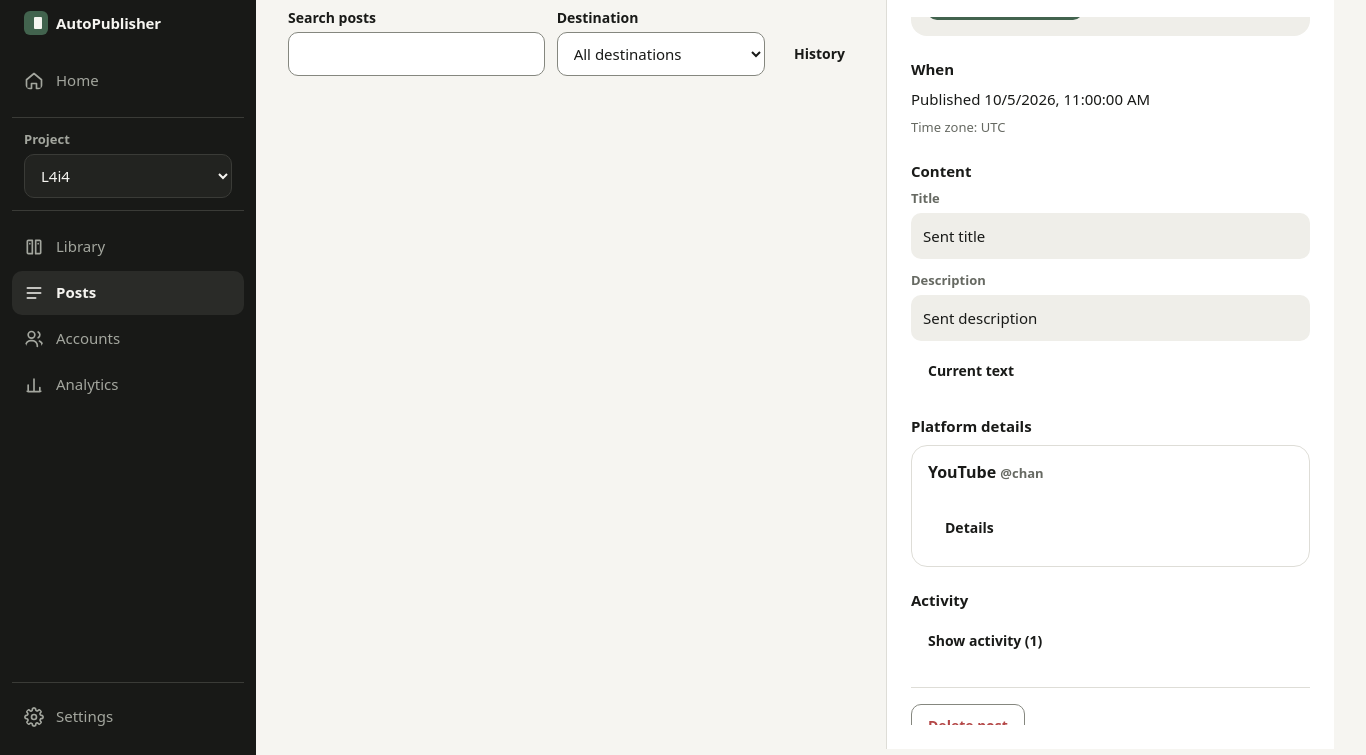
a Published Post shows what was sent, even if the Media changed since
(page scrolled)
Check: the text "Sent title" is shown, box [911,213,1310,259]
Check: the text "Sent description" is shown, box [911,295,1310,341]
Click the button "Current text": (971, 371) [911,349,1031,393]
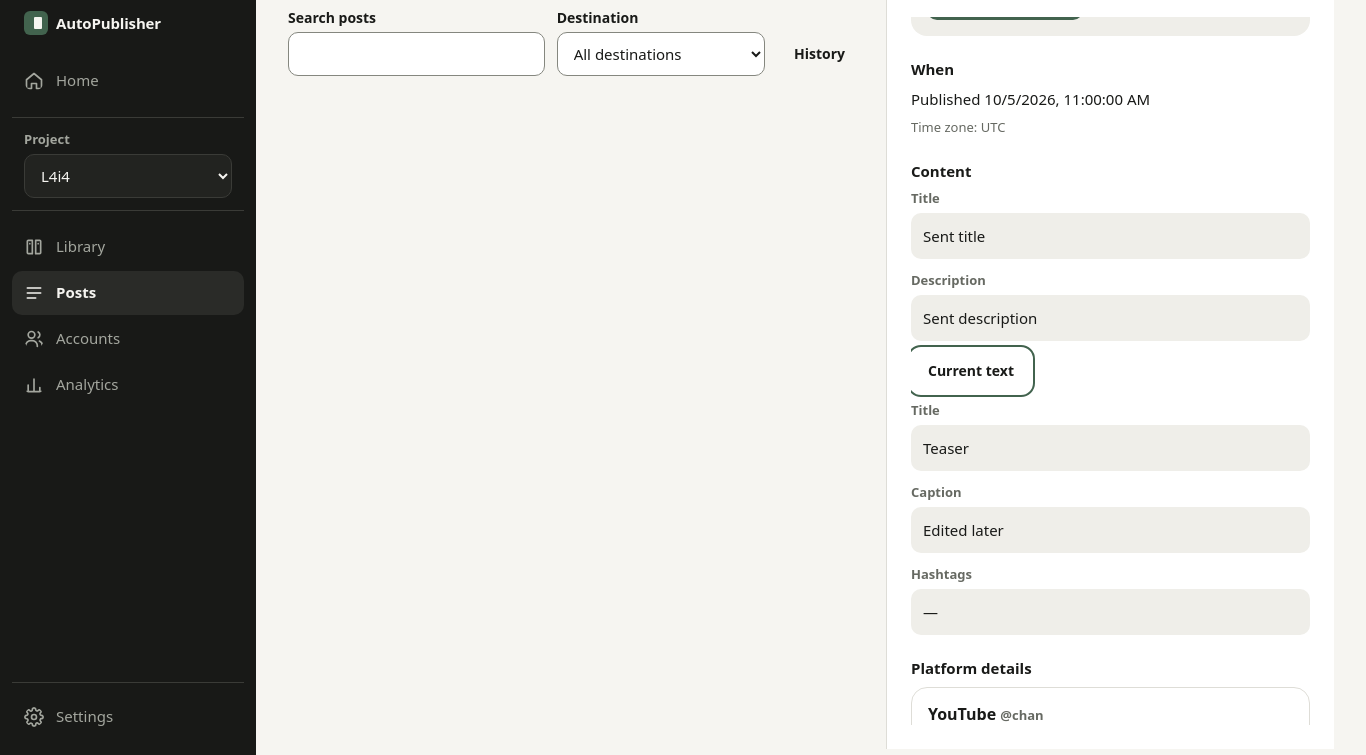
Check: the text "Edited later" is shown, box [911,507,1310,553]
